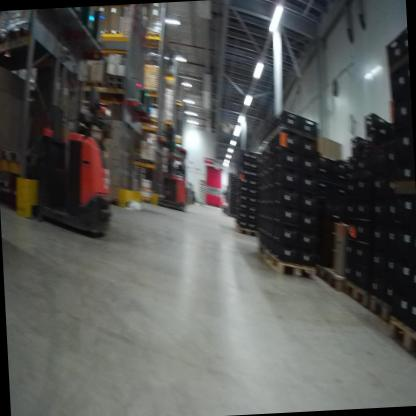forklift: (148, 119, 192, 220)
pallet: (258, 239, 315, 278), (390, 317, 416, 365), (0, 139, 35, 170), (339, 277, 373, 308), (317, 261, 346, 295), (366, 291, 390, 320), (102, 77, 131, 94), (8, 20, 33, 37), (234, 221, 258, 238)
pallet_truck: (24, 67, 119, 248)
